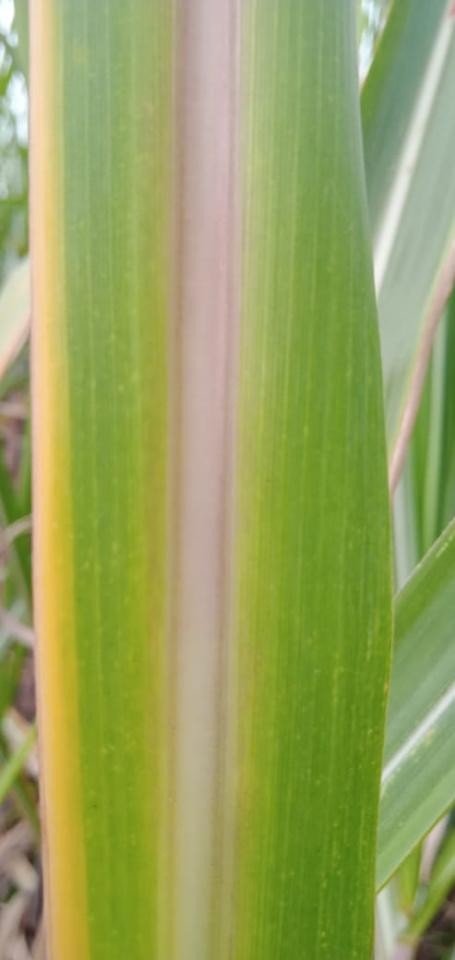Yellow: (26, 0, 89, 959)
